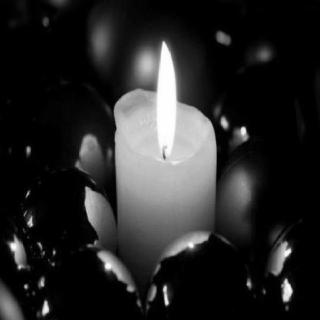Fire: (146, 30, 188, 162)
